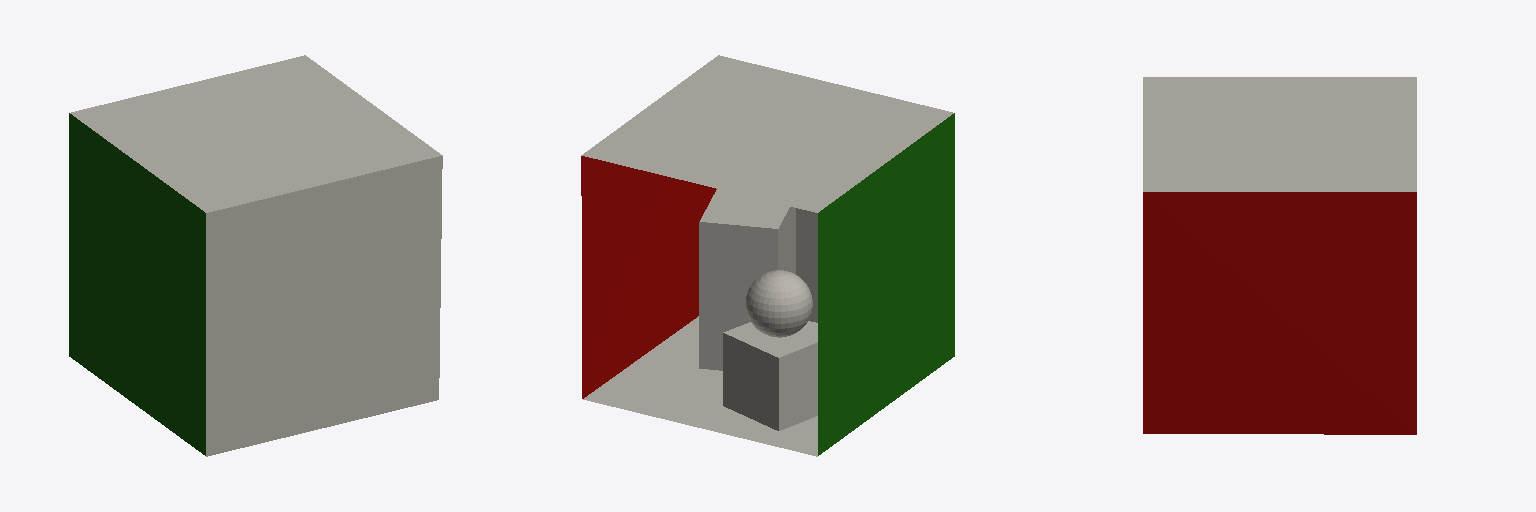
The model's file is CornellBox-Original.obj.
3 views of the same model, side by side, from view 1: azimuth 30°, elevation 25°; view 2: azimuth 150°, elevation 25°; view 3: azimuth 270°, elevation 25° (orthographic).
Visible parts, largest first — view 1: CornellBox-Original; view 2: CornellBox-Original; view 3: CornellBox-Original.
Boxes of the visible parts, box(x1,y1,x2,y2) form: CornellBox-Original: box(69, 55, 442, 456); CornellBox-Original: box(581, 55, 954, 456); CornellBox-Original: box(1143, 77, 1416, 434).
Size of the model in its own units: 8.08 by 7.96 by 8.12.